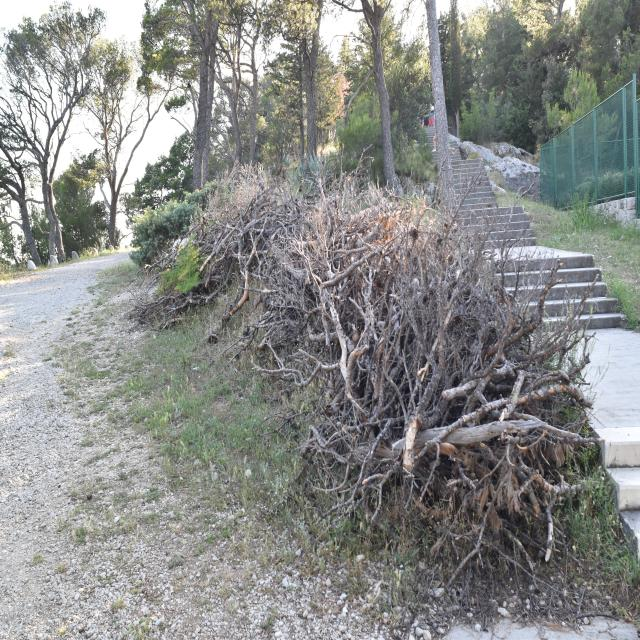restos de madeira: (292, 287, 431, 529), (421, 402, 556, 590), (415, 279, 538, 420), (252, 300, 338, 400), (266, 215, 340, 310), (398, 205, 465, 298), (453, 355, 515, 414), (523, 319, 591, 370), (211, 276, 258, 344), (236, 214, 270, 306), (343, 199, 388, 267), (129, 287, 199, 328), (208, 210, 251, 270), (320, 243, 381, 284), (203, 243, 245, 302), (304, 167, 343, 230), (235, 200, 282, 247), (515, 381, 584, 412), (524, 419, 596, 447), (274, 184, 302, 234), (513, 432, 546, 453), (230, 285, 249, 312), (199, 251, 214, 276), (417, 362, 429, 382)
